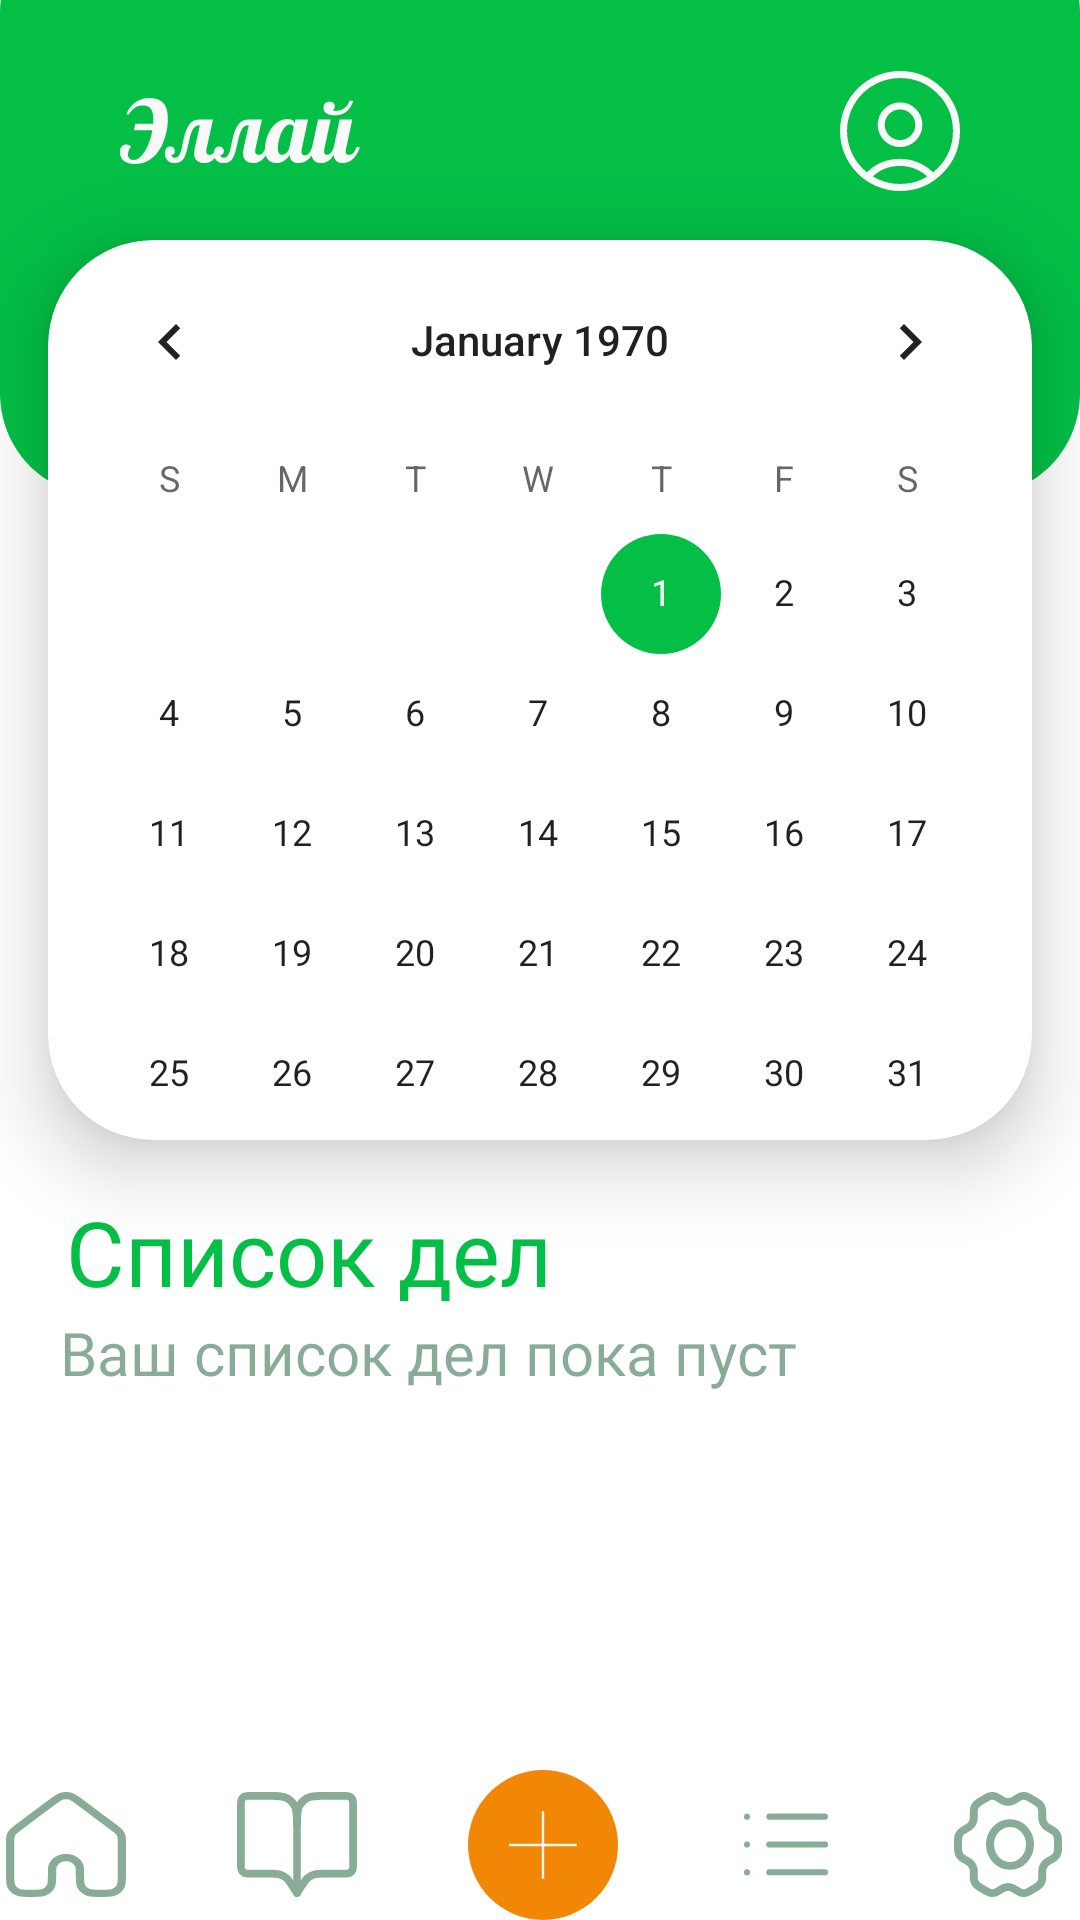

Icon click points for this 1080×1920 phone screenshot, format (x=x, y=y):
profile: (x=900, y=131)
